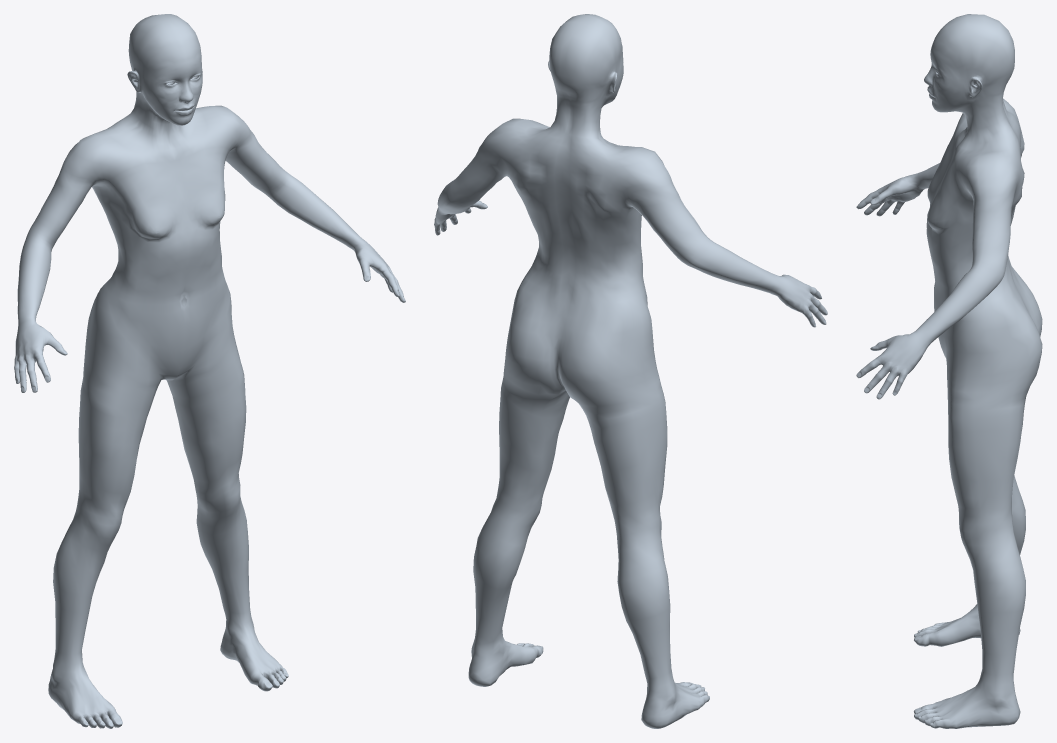
The model's file is human_body.glb.
The picture shows the model from 3 angles, left to right: view 1: azimuth 30°, elevation 25°; view 2: azimuth 150°, elevation 25°; view 3: azimuth 270°, elevation 25°; orthographic projection.
Parts seen in each view (by area): view 1: HumanBody; view 2: HumanBody; view 3: HumanBody.
Part boxes in pixels (<box>): HumanBody: <box>14,14,405,728</box>; HumanBody: <box>434,14,827,728</box>; HumanBody: <box>856,14,1042,728</box>.
Size of the model in its own units: 9.93 by 16.66 by 4.23.
